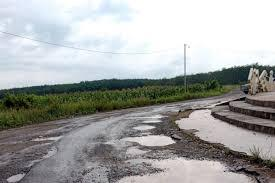Pothole: (105, 150, 267, 183), (14, 135, 76, 169), (115, 133, 184, 152), (45, 114, 91, 134), (124, 119, 171, 133), (4, 166, 29, 183)
